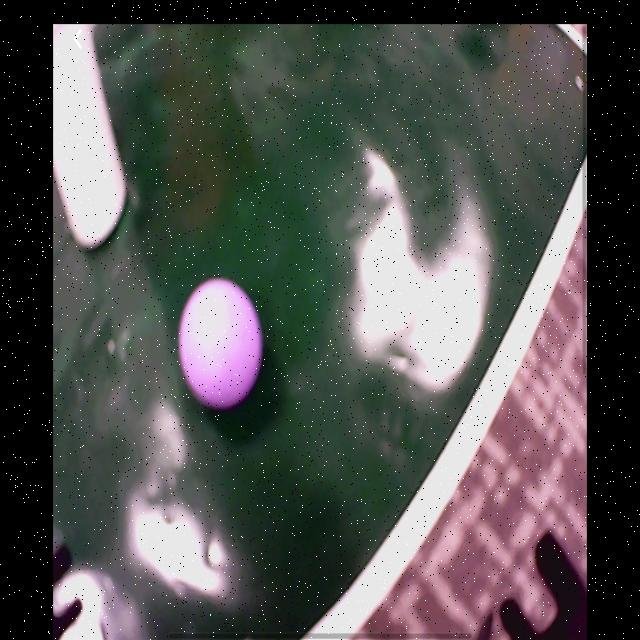ball: (179, 279, 263, 410)
